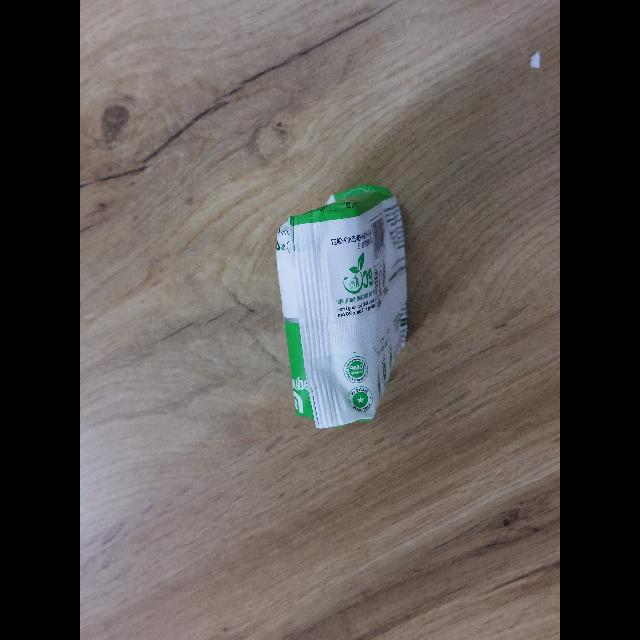khan_giay: (276, 185, 407, 428)
